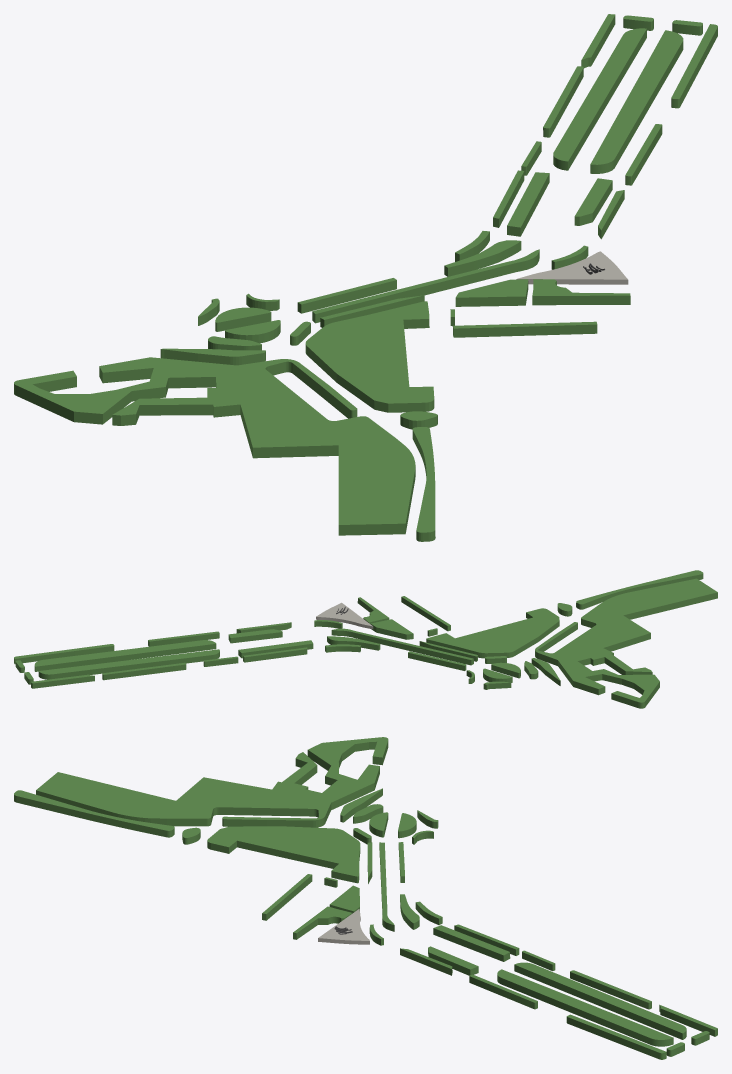
The model's file is grassLIND.fbx.
3 views of the same model, one above another, from view 1: azimuth 30°, elevation 25°; view 2: azimuth 150°, elevation 25°; view 3: azimuth 270°, elevation 25° (orthographic). The views are drawn at different scales.
Parts seen in each view (by area): view 1: Slice.018; view 2: Slice.018; view 3: Slice.018.
Part boxes in pixels (x1,y1,x2,y2): Slice.018: (14, 14, 717, 541); Slice.018: (14, 570, 717, 708); Slice.018: (14, 737, 717, 1059).
Bounding box in the file's own units: 57141 × 995 × 53820.
